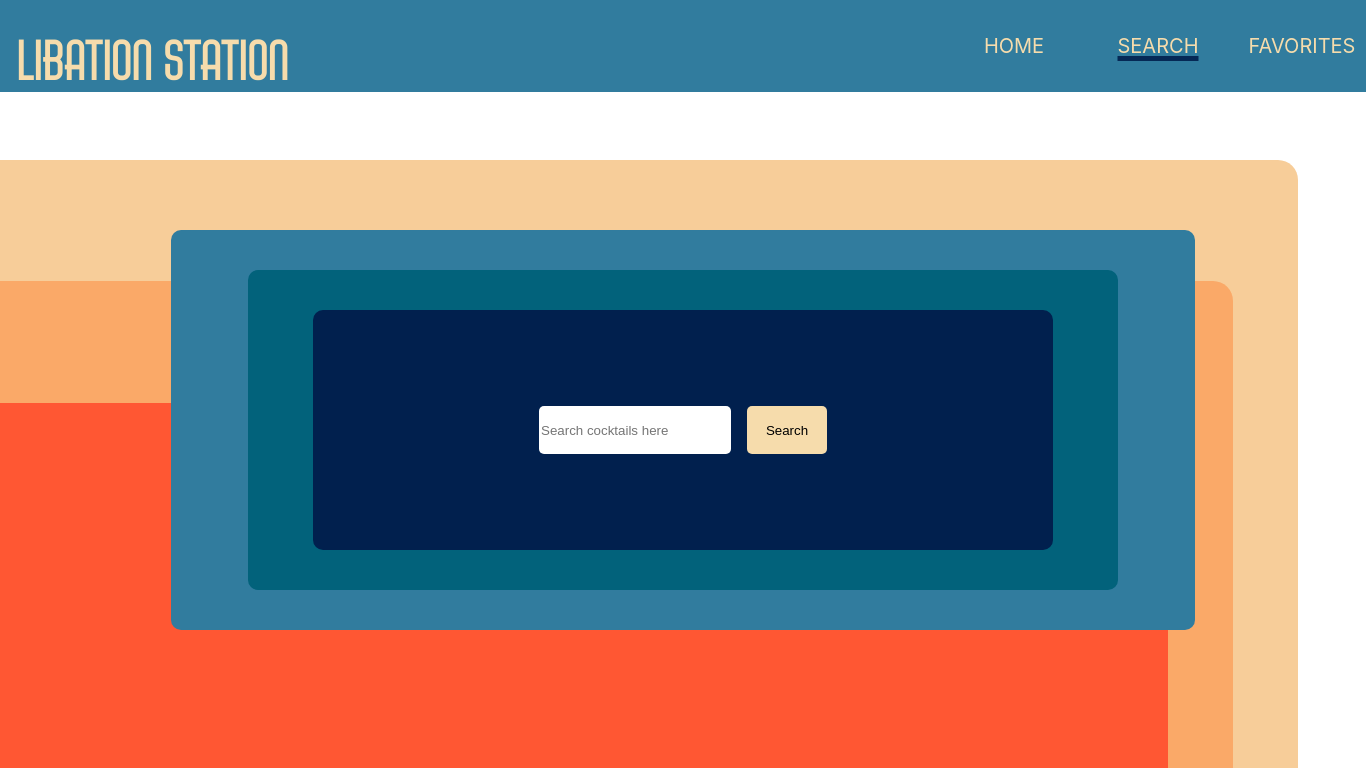
Sad path testing › should throw an error if the user gets a 404 error or navigates to a bad url
This screenshot has width=1366, height=768.
In the field named "input": (635, 430) [539,406,731,454], type "MadeUpCocktail"
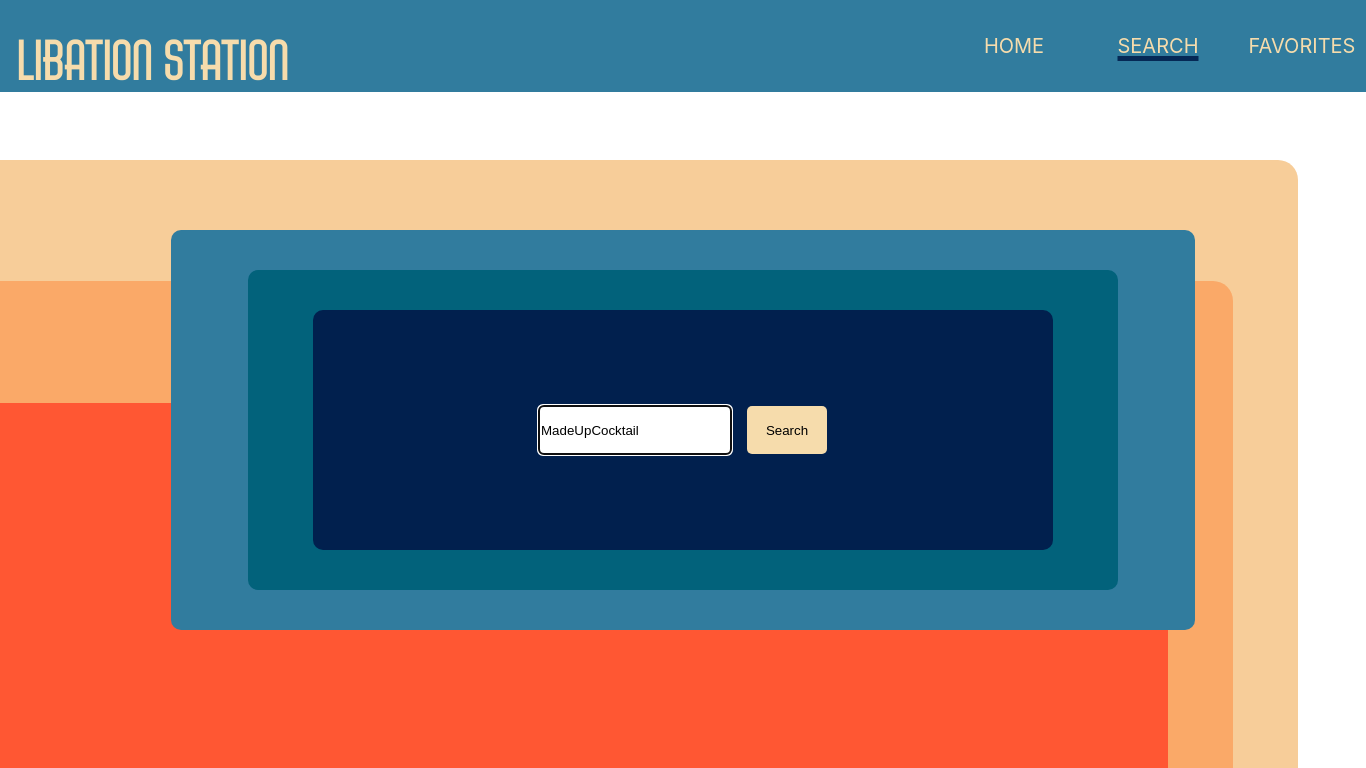
Click the button with class "input-btn": (787, 430) [747,406,827,454]
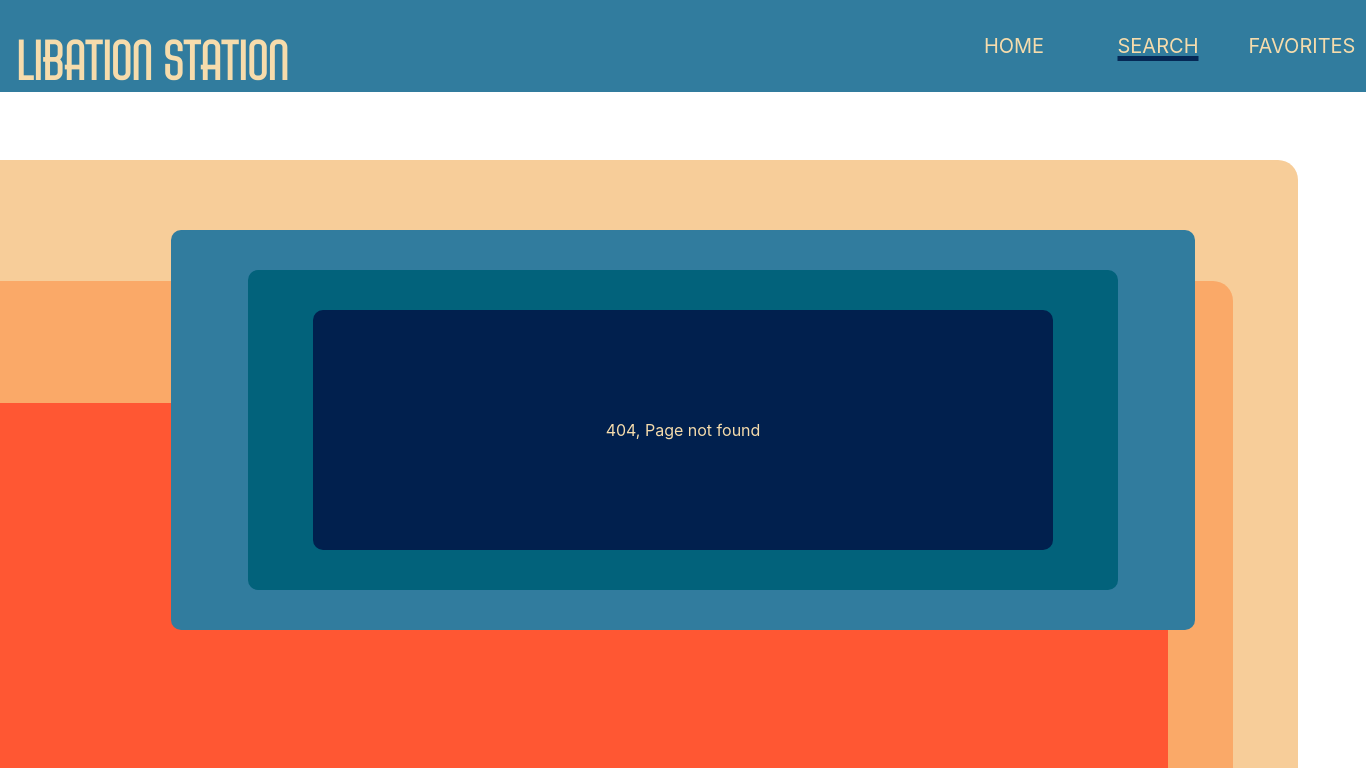
Check: the element with class "error-message" is shown, box [313,310,1053,550]
Check: the text "404, Page not found" is shown, box [606,420,760,440]
Open "http://localhost:3000/"
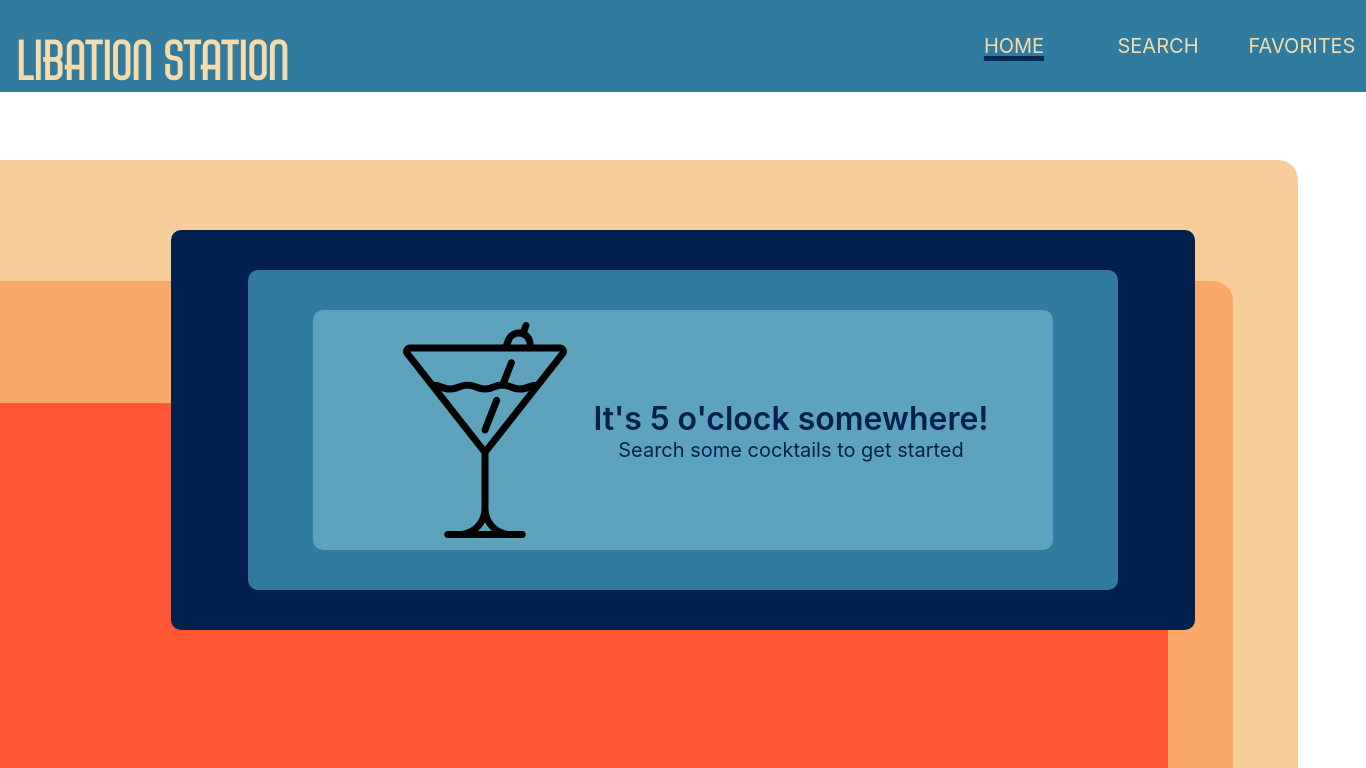
Check: the element with class "error-message" is gone
Open "http://localhost:3000/potato"
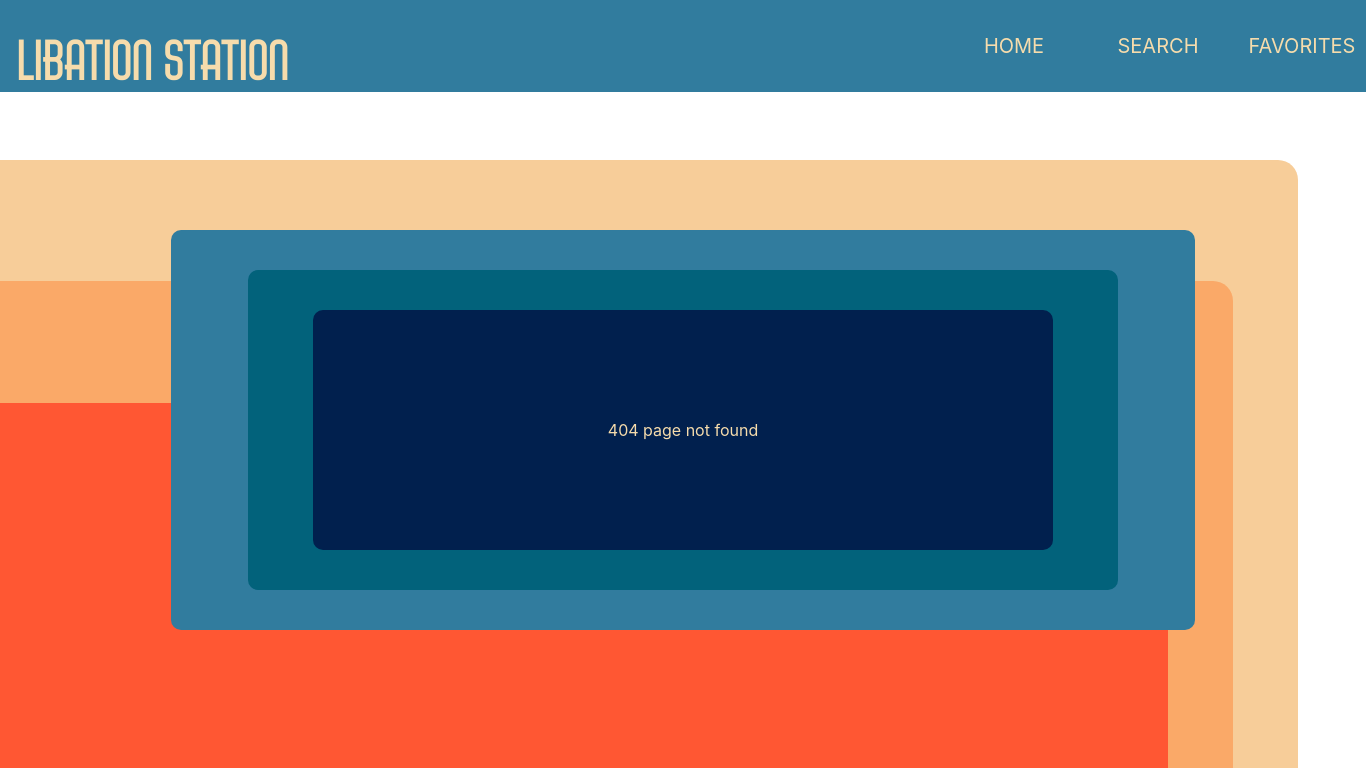
Check: the element with class "error-message" is shown, box [313,310,1053,550]
Check: the text "404 page not found" is shown, box [608,420,758,440]
